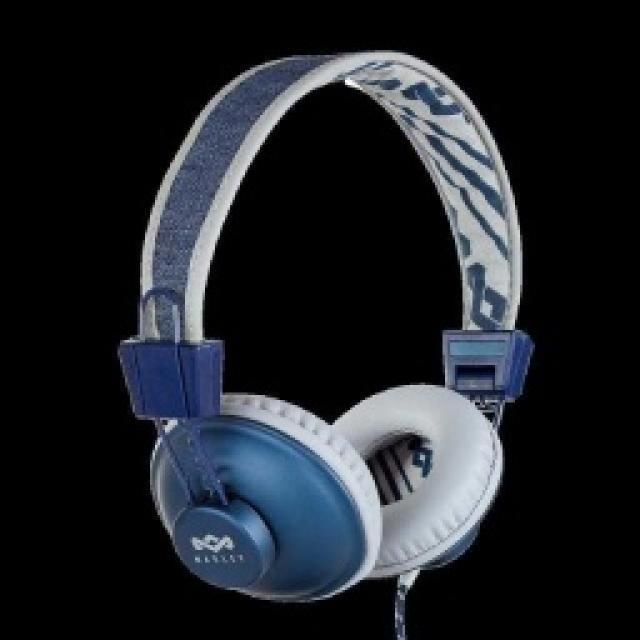headphones: (115, 48, 533, 602)
